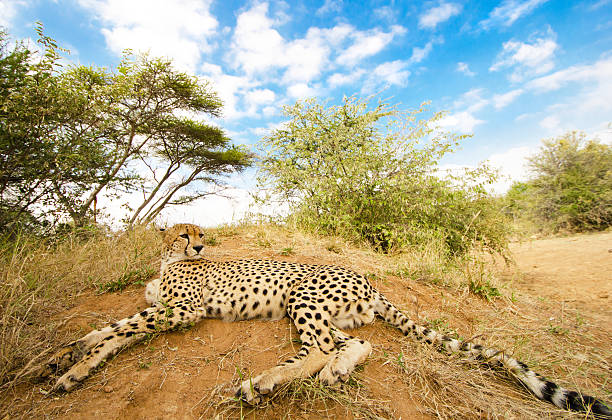cheetah: (152, 220, 212, 267)
